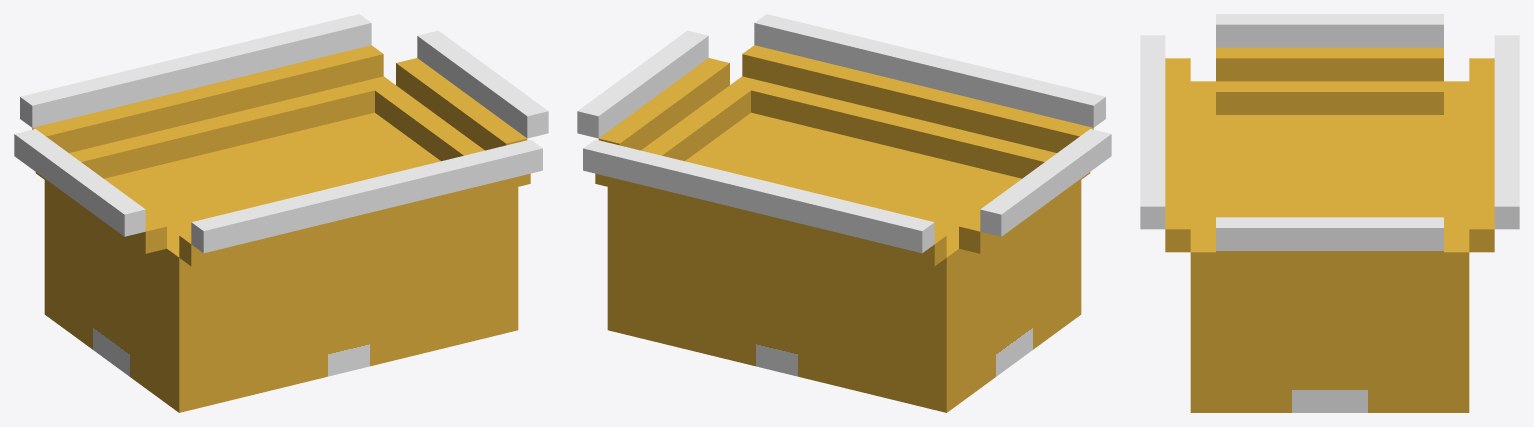
Rendered from Vehicle_34.fbx.
3 views of the same model, side by side, from view 1: azimuth 30°, elevation 25°; view 2: azimuth 150°, elevation 25°; view 3: azimuth 270°, elevation 25° (orthographic). The views are drawn at different scales.
Visible parts, largest first — view 1: Vehicle_34; view 2: Vehicle_34; view 3: Vehicle_34.
Part boxes in pixels (x1=…): Vehicle_34: x1=14, y1=14, x2=548, y2=412; Vehicle_34: x1=577, y1=14, x2=1111, y2=412; Vehicle_34: x1=1140, y1=14, x2=1519, y2=412.
Bounding box in the file's own units: 20 × 9 × 15.
1 material, 1 textured.
